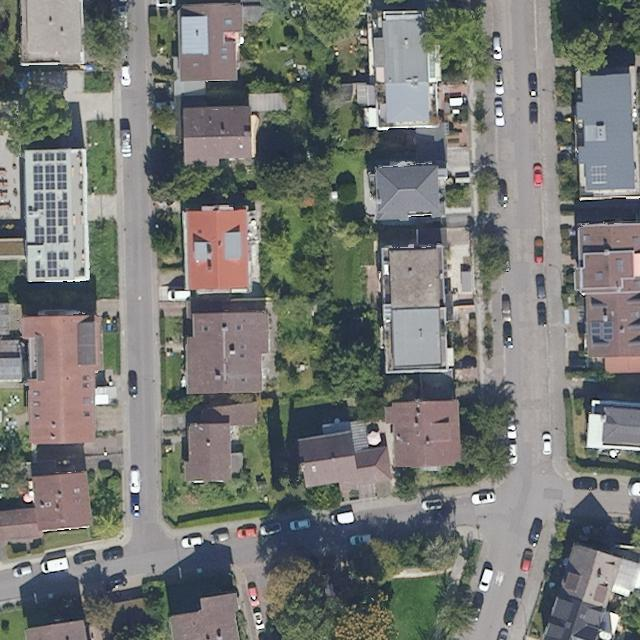PV: (28, 190, 68, 242), (35, 251, 69, 278), (34, 164, 66, 190), (589, 316, 611, 344), (590, 164, 606, 186), (33, 153, 66, 161)
